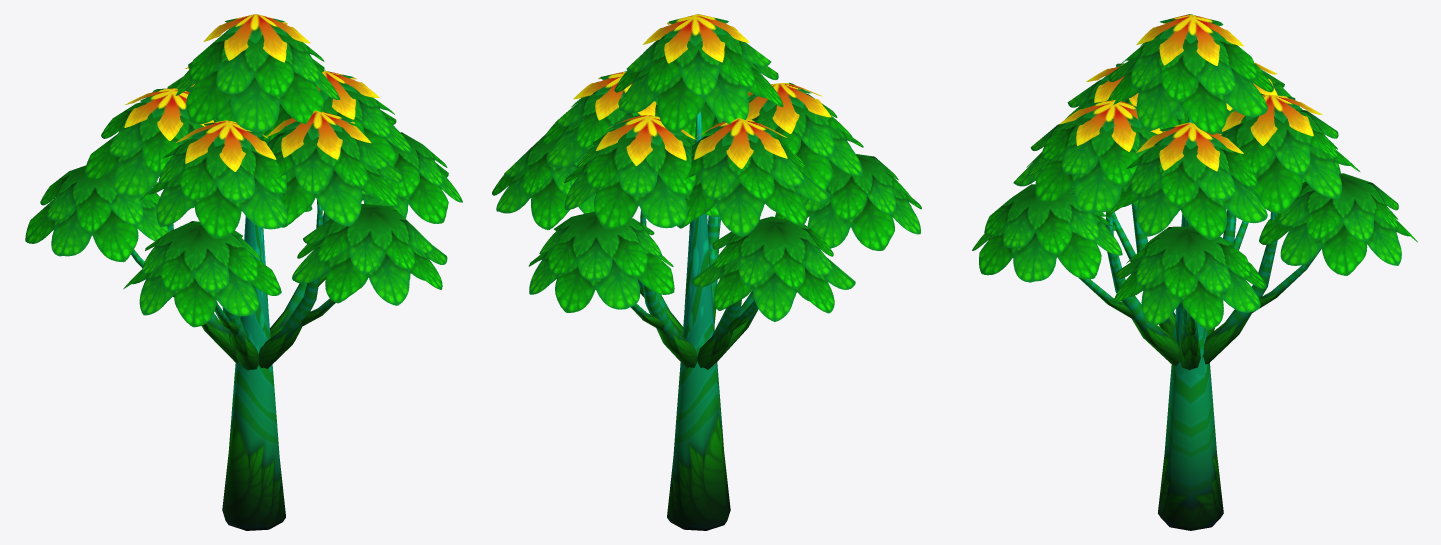
Rendered from Green_Tree_05b.FBX.
3 renders of one model, left to right at view 1: azimuth 30°, elevation 25°; view 2: azimuth 150°, elevation 25°; view 3: azimuth 270°, elevation 25°, orthographic.
Parts seen in each view (by area): view 1: Green_Tree_05b; view 2: Green_Tree_05b; view 3: Green_Tree_05b.
Part boxes in pixels (x1,y1,x2,y2): Green_Tree_05b: (25,14,462,530); Green_Tree_05b: (492,14,921,530); Green_Tree_05b: (972,14,1417,530).
Size of the model in its own units: 374 by 465 by 386.
